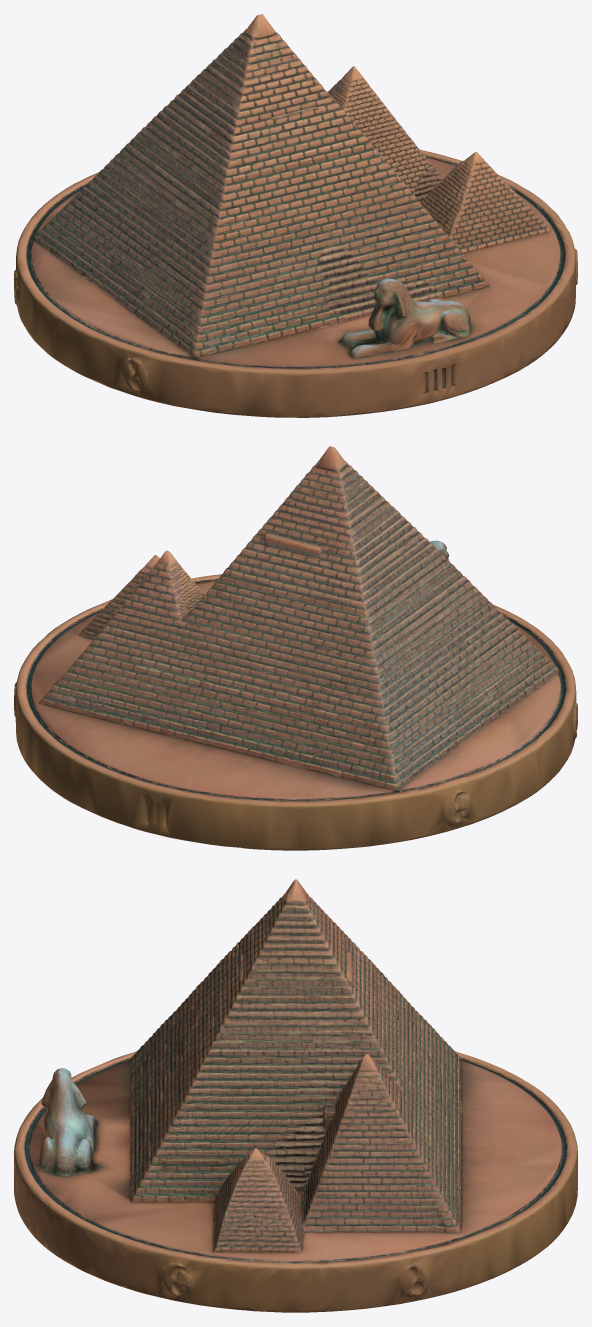
File: pyramid_giza_diamond.glb
The picture shows the model from 3 angles, top to bottom: view 1: azimuth 30°, elevation 25°; view 2: azimuth 150°, elevation 25°; view 3: azimuth 270°, elevation 25°; orthographic projection.
Parts seen in each view (by area): view 1: Mesh_0; view 2: Mesh_0; view 3: Mesh_0.
Boxes of the visible parts, x1,y1,x2,y2 form: Mesh_0: [14, 14, 577, 417]; Mesh_0: [14, 446, 577, 850]; Mesh_0: [14, 879, 577, 1312].
Bounding box in the file's own units: 1.91 × 1.11 × 1.91.
Materials: 1 (1 with a texture image).
